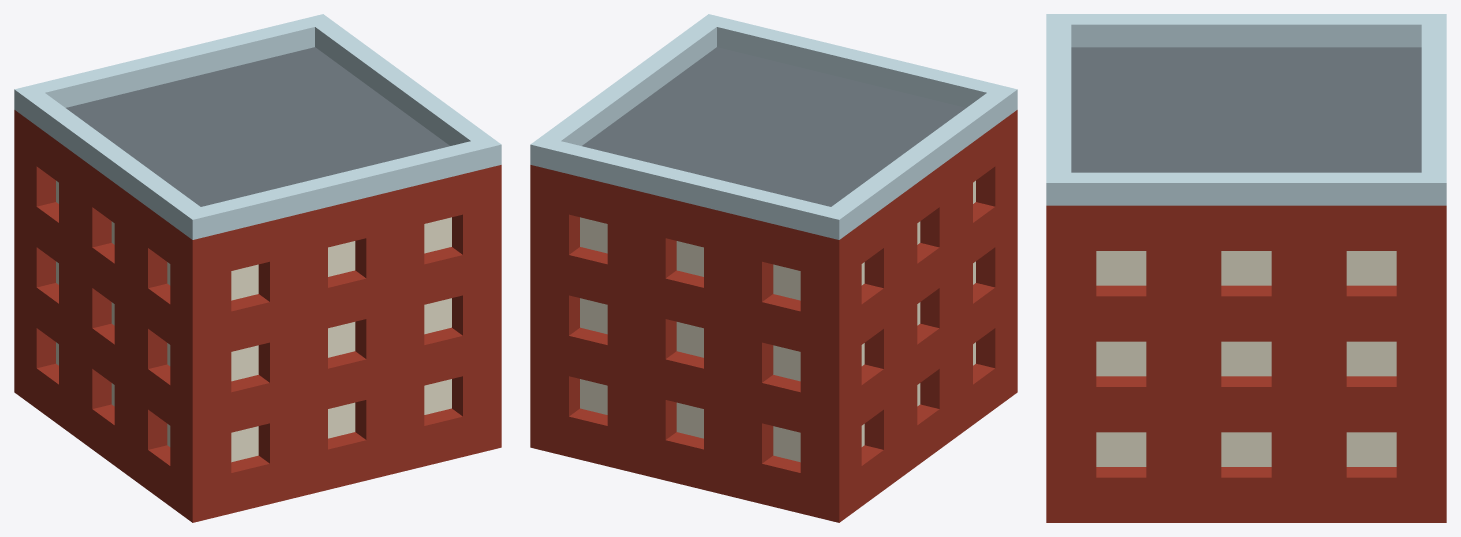
File: Building_2 (Red).obj
The picture shows the model from 3 angles, left to right: view 1: azimuth 30°, elevation 25°; view 2: azimuth 150°, elevation 25°; view 3: azimuth 270°, elevation 25°; orthographic projection. The views are drawn at different scales.
Visible parts, largest first — view 1: Building_2_(Red); view 2: Building_2_(Red); view 3: Building_2_(Red).
Part boxes in pixels (x1,y1,x2,y2): Building_2_(Red): (14,14,501,522); Building_2_(Red): (530,14,1017,522); Building_2_(Red): (1046,14,1446,522).
Size of the model in its own units: 1.6 by 1.5 by 1.6.
